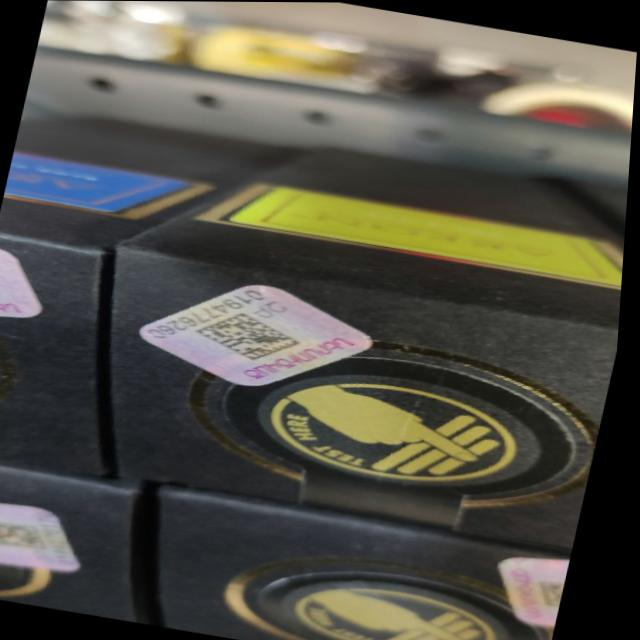datamatrix: (191, 306, 310, 369)
